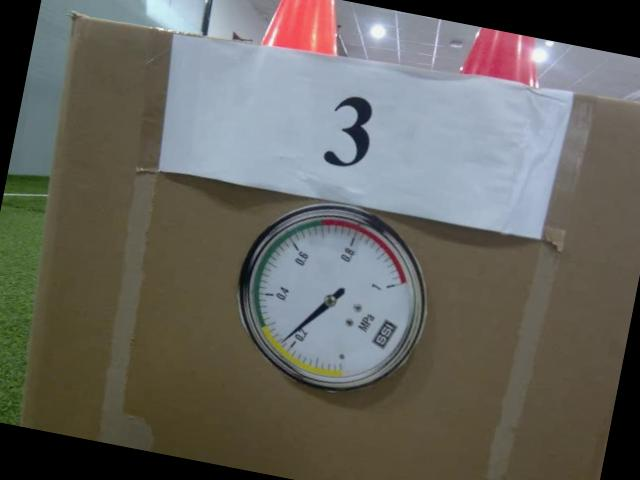3: (322, 91, 381, 172)
Dashboard: (220, 188, 448, 406)
orange_barrel: (258, 0, 347, 58)
red_barrel: (459, 24, 544, 88)
ssi: (368, 314, 398, 352)
